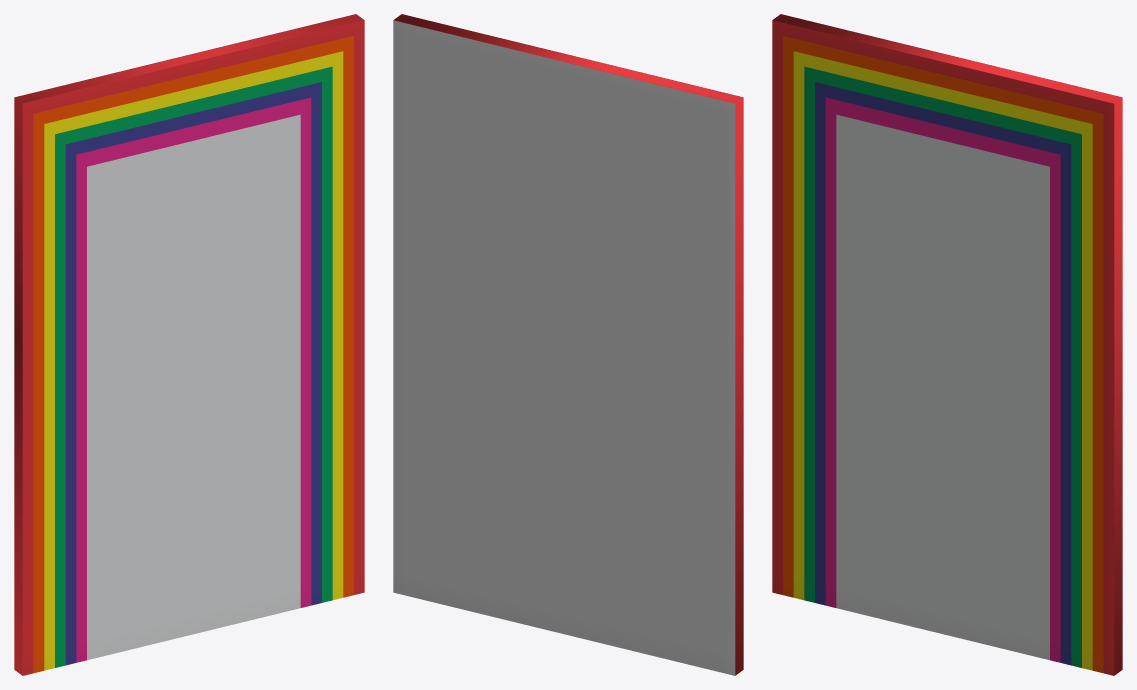
The model's file is espelho1.fbx.
The picture shows the model from 3 angles, left to right: view 1: azimuth 30°, elevation 25°; view 2: azimuth 150°, elevation 25°; view 3: azimuth 330°, elevation 25°; orthographic projection.
Visible parts, largest first — view 1: Cube_001; view 2: Cube_001; view 3: Cube_001.
Part boxes in pixels (<box>): Cube_001: <box>14,14,364,675</box>; Cube_001: <box>393,14,743,675</box>; Cube_001: <box>772,14,1122,675</box>.
Bounding box in the file's own units: 4.28 × 6.84 × 0.1857.
